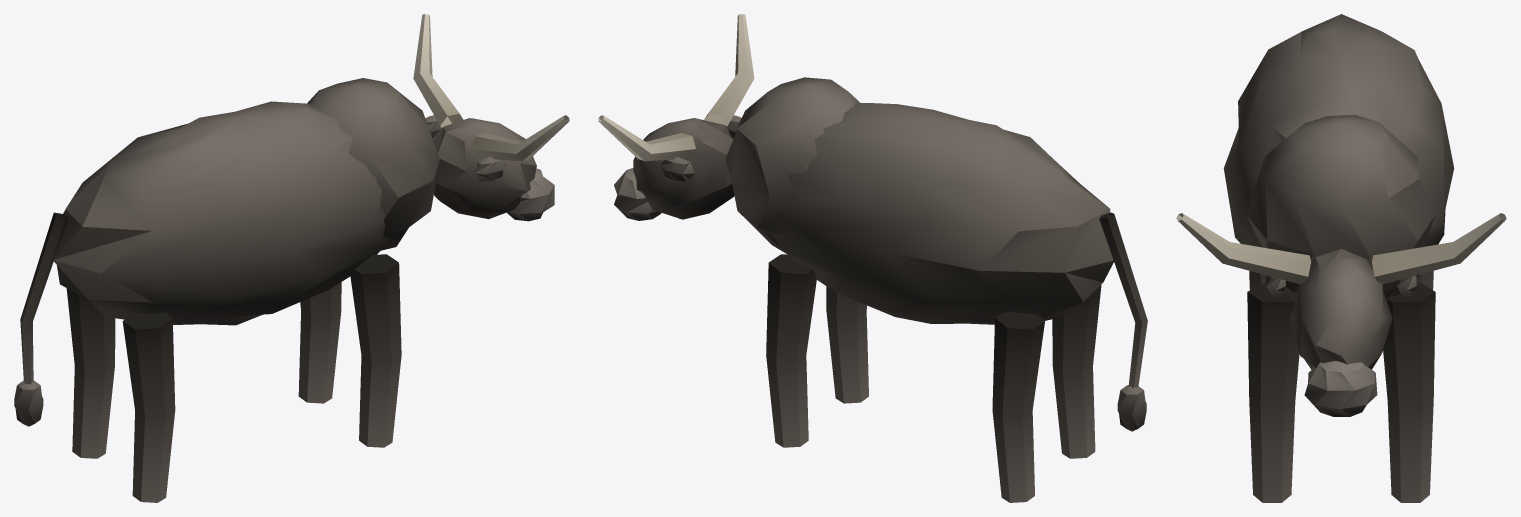
The model's file is ghost_ox.glb.
3 views of the same model, side by side, from view 1: azimuth 30°, elevation 25°; view 2: azimuth 150°, elevation 25°; view 3: azimuth 270°, elevation 25° (orthographic). The views are drawn at different scales.
Visible parts, largest first — view 1: ghost_ox; view 2: ghost_ox; view 3: ghost_ox.
Boxes of the visible parts, x1,y1,x2,y2 form: ghost_ox: (14,14,569,502); ghost_ox: (598,14,1147,502); ghost_ox: (1176,14,1506,502).
Bounding box in the file's own units: 1.84 × 1.09 × 0.8592.
